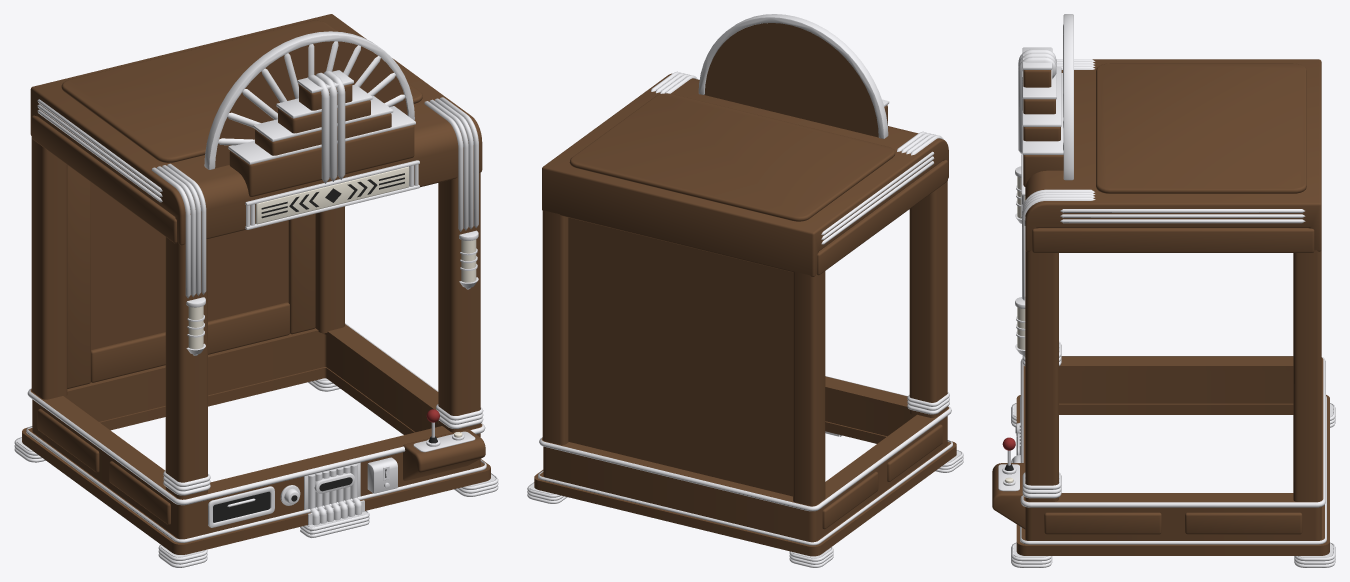
The model's file is claw-deco-artdeco.glb.
3 renders of one model, left to right at view 1: azimuth 30°, elevation 25°; view 2: azimuth 150°, elevation 25°; view 3: azimuth 270°, elevation 25°, orthographic. The views are drawn at different scales.
Visible parts, largest first — view 1: deco_artdeco; view 2: deco_artdeco; view 3: deco_artdeco.
Part boxes in pixels (box(x1,y1,x2,y2)): deco_artdeco: box(14, 14, 498, 567); deco_artdeco: box(527, 14, 963, 567); deco_artdeco: box(992, 14, 1335, 567).
Bounding box in the file's own units: 7.92 × 10.95 × 7.32.
